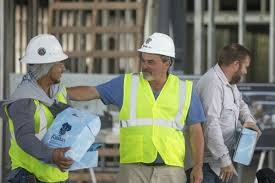hard hat: (20, 34, 69, 64), (137, 32, 176, 57)
high-vis: (118, 73, 193, 165), (6, 85, 69, 182)
